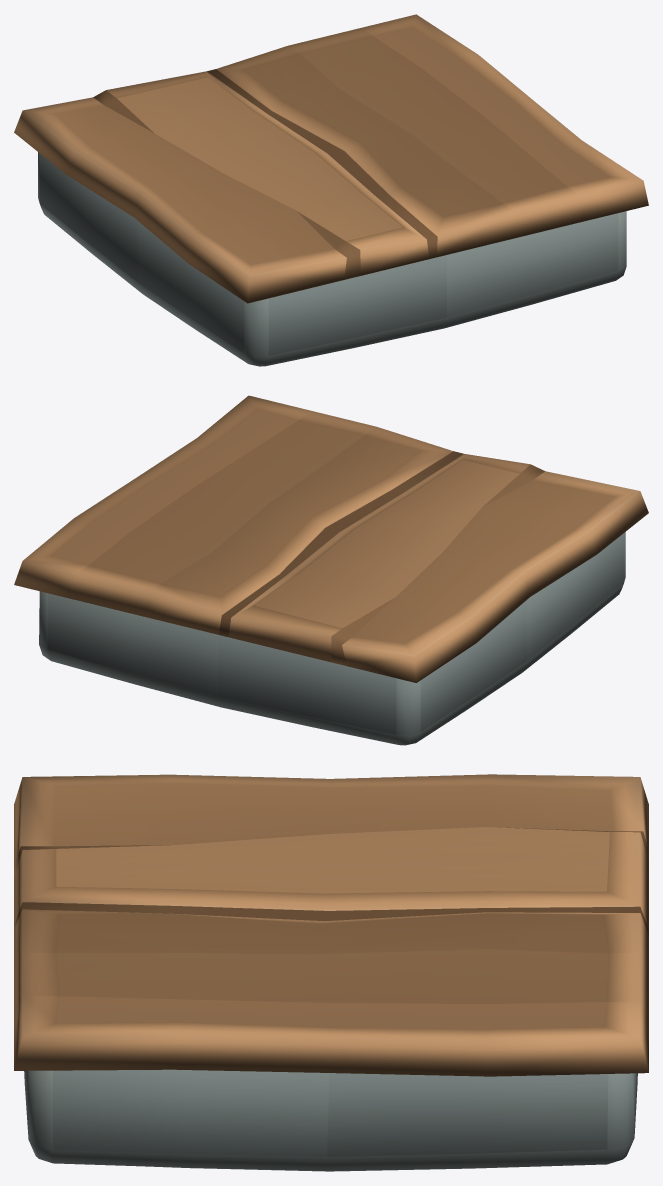
Rendered from tavern_quater_floor.fbx.
3 views of the same model, one above another, from view 1: azimuth 30°, elevation 25°; view 2: azimuth 150°, elevation 25°; view 3: azimuth 270°, elevation 25° (orthographic). The views are drawn at different scales.
Visible parts, largest first — view 1: tavern_quater_floor_LOD0; view 2: tavern_quater_floor_LOD0; view 3: tavern_quater_floor_LOD0.
Part boxes in pixels (left/top/right/bottom): tavern_quater_floor_LOD0: left=14, top=14, right=648, bottom=366; tavern_quater_floor_LOD0: left=14, top=395, right=648, bottom=745; tavern_quater_floor_LOD0: left=14, top=774, right=648, bottom=1171.
Size of what is drawn, in the model's own units: 102 by 27.93 by 100.
